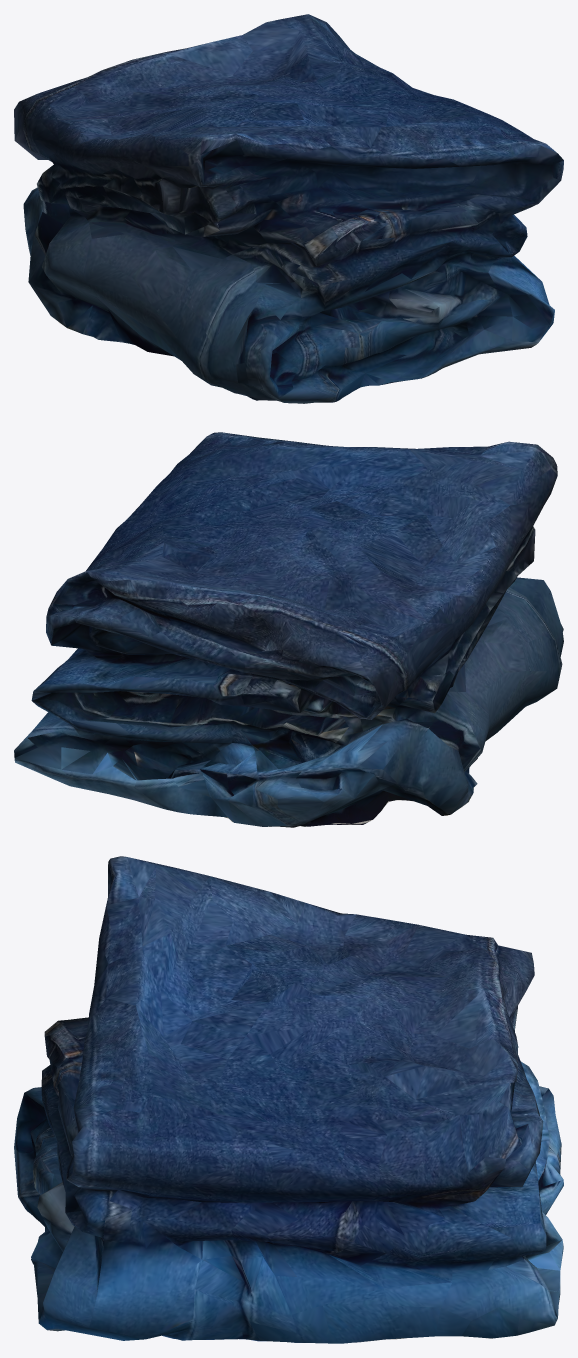
File: ASSET_jeans_stack.glb
The picture shows the model from 3 angles, top to bottom: view 1: azimuth 30°, elevation 25°; view 2: azimuth 150°, elevation 25°; view 3: azimuth 270°, elevation 25°; orthographic projection. The views are drawn at different scales.
Visible parts, largest first — view 1: ASSET_jeans_stack; view 2: ASSET_jeans_stack; view 3: ASSET_jeans_stack.
Part boxes in pixels (x1,y1,x2,y2): ASSET_jeans_stack: (14,14,563,403); ASSET_jeans_stack: (14,432,563,827); ASSET_jeans_stack: (14,856,563,1343).
Bounding box in the file's own units: 0.3343 × 0.2078 × 0.3422.
Materials: 1 (1 with a texture image).
